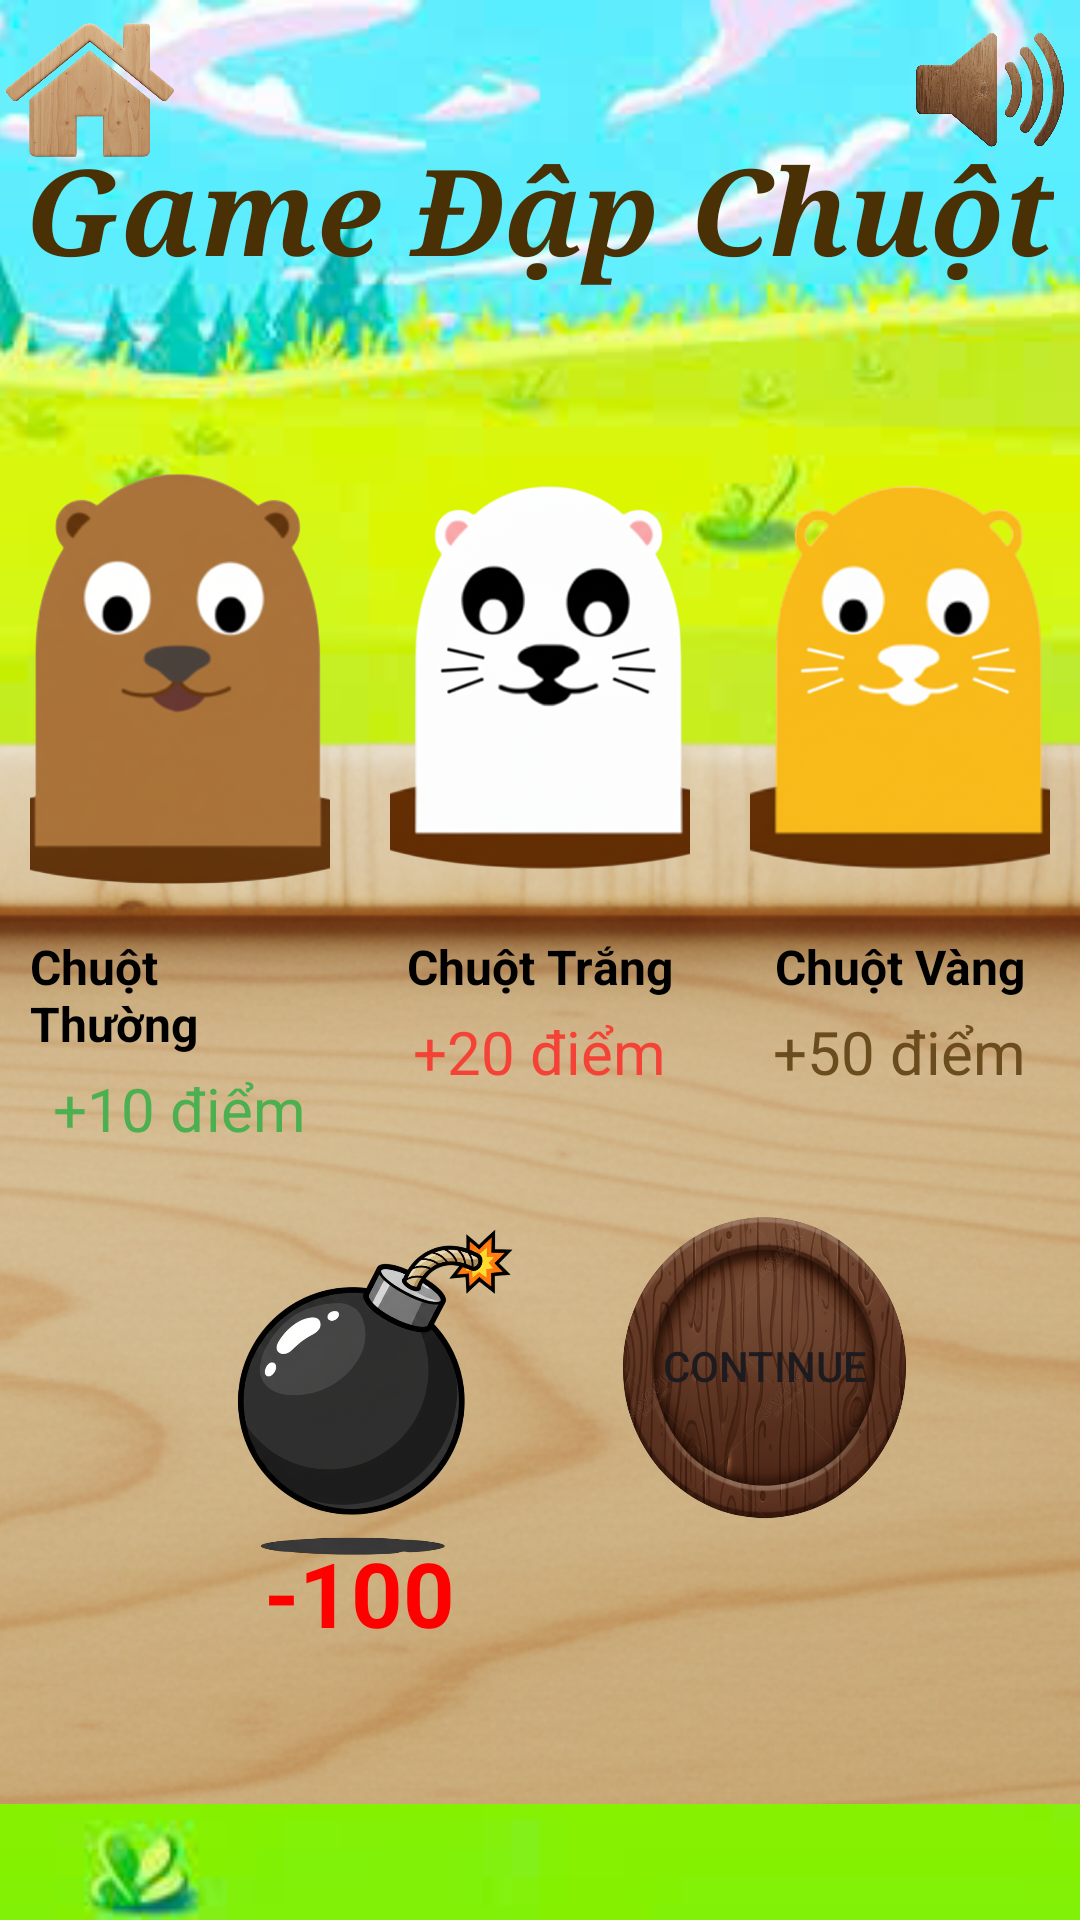

Icons on this 1080×1920 Android screen, each with the point to tap as (x,y):
home: (90,90)
loa: (982,90)
